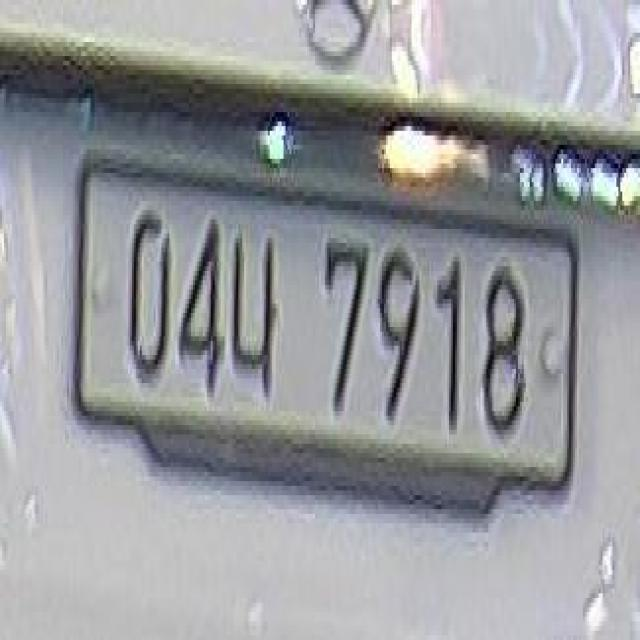illegal_plate: (75, 150, 580, 538)
